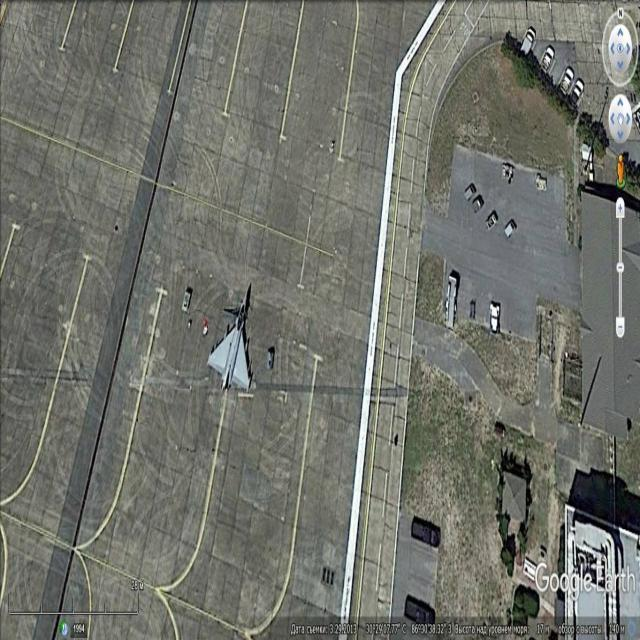MIL_Plane: (206, 287, 252, 393)
